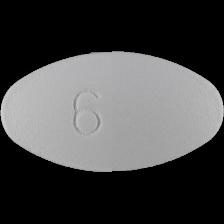59630-580: (0, 0, 224, 224)
